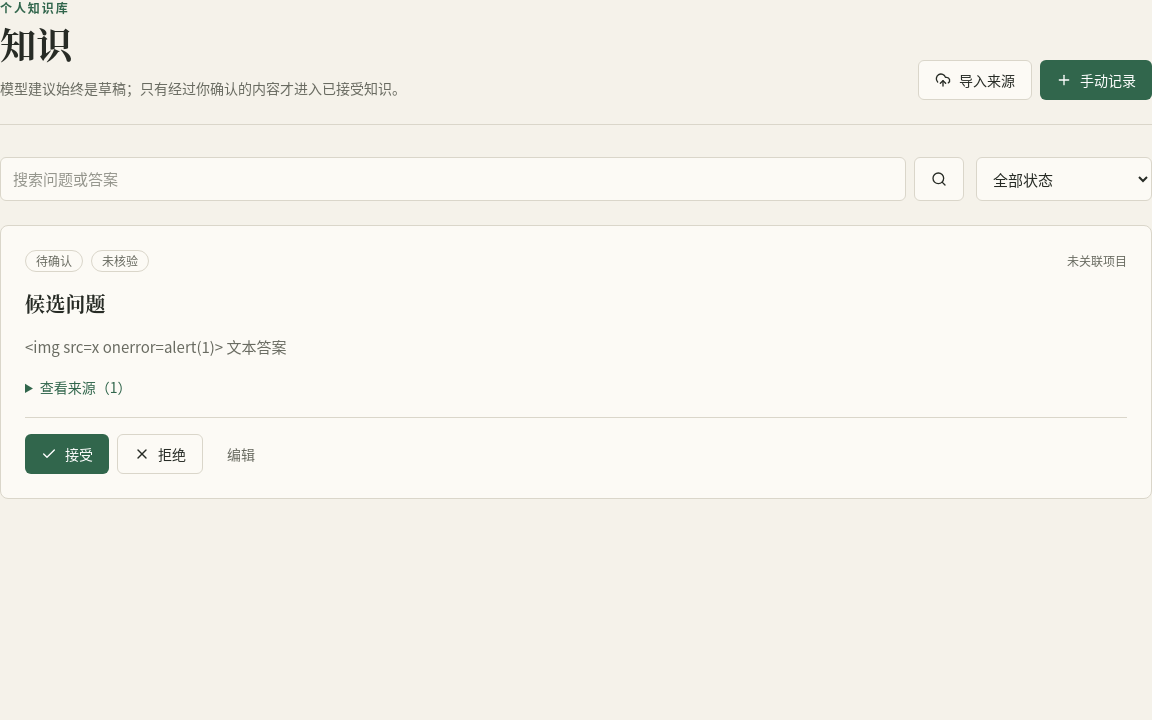
Test: 候选知识与失败保留 › 来源导入失败后保留实际 kind 对应标识和表单
Expected: the heading "候选问题" is shown, [25,289,106,318]
Click the button "导入来源" at [975, 80], box [918,60,1032,100]
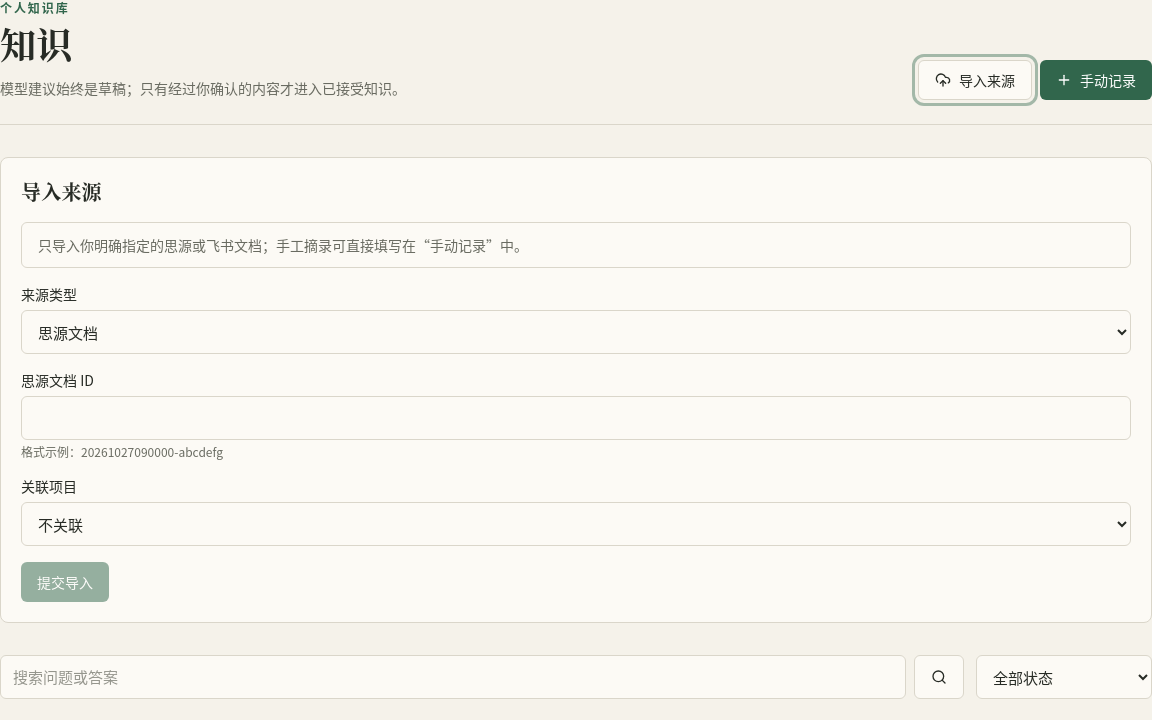
Type "20261027090000-abcdefg" into the field labelled "思源文档 ID" at [576, 418], box [21,396,1131,440]
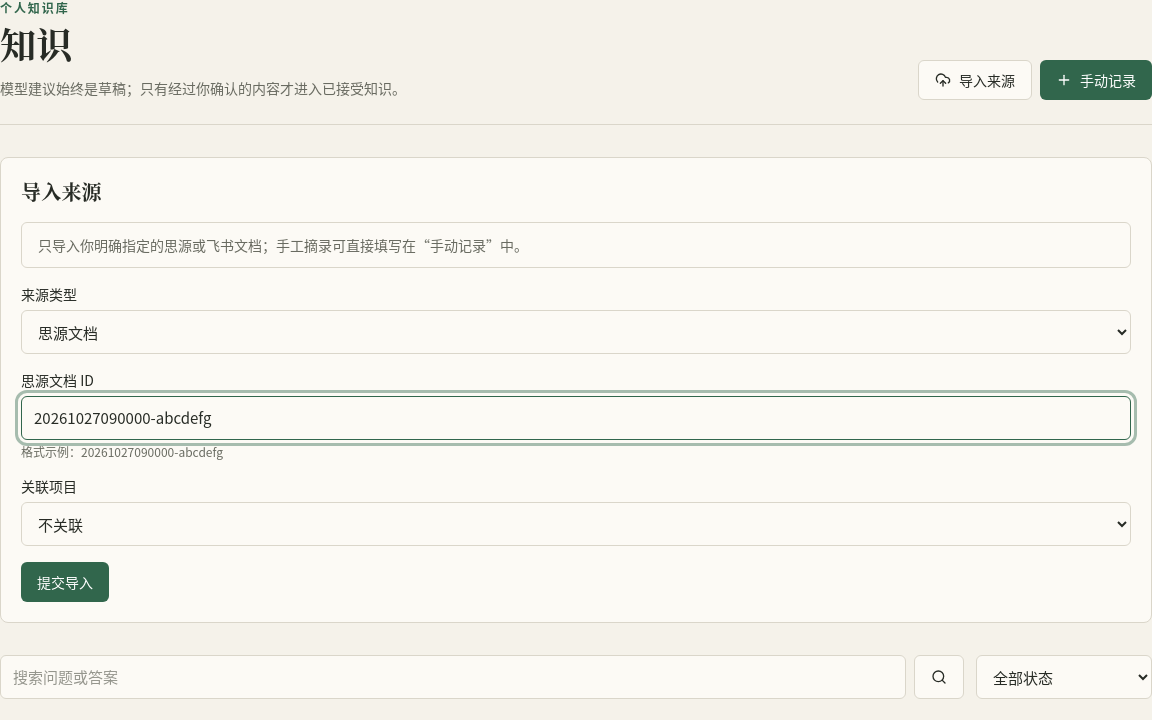
Click the button "提交导入" at [65, 582], box [21,562,109,602]
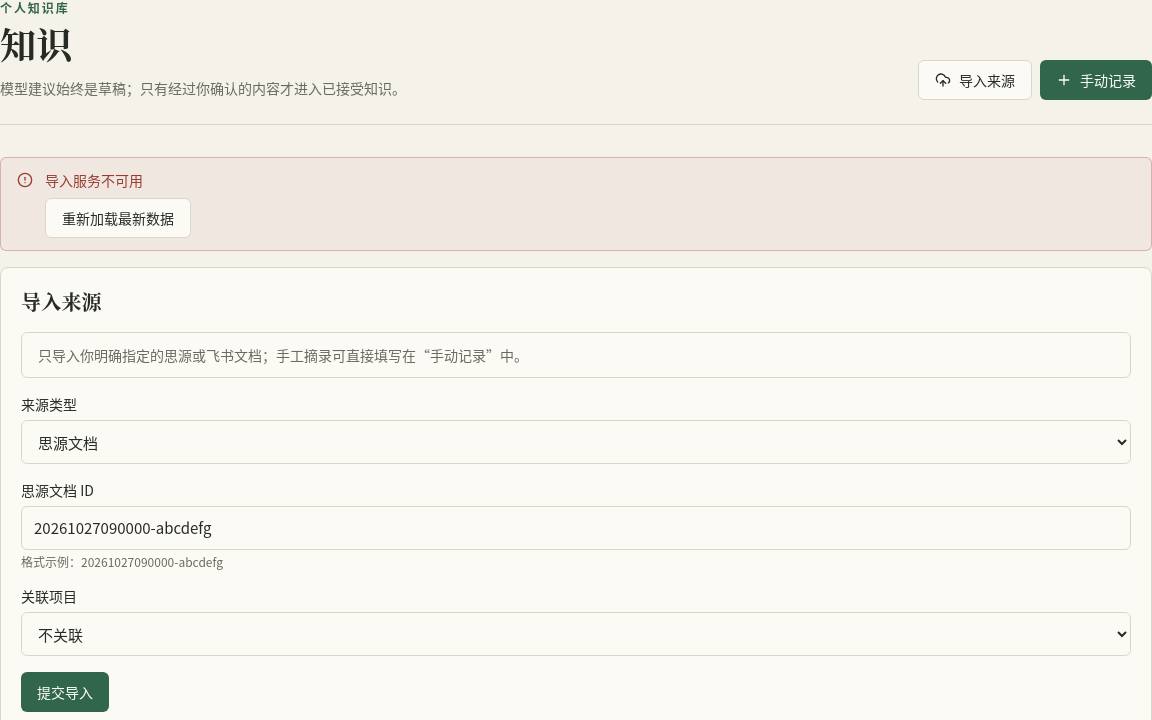
Expected: the button "提交导入" is shown, [21,672,109,712]
Expected: the message "导入服务不可用 重新加载最新数据" is shown, [0,157,1151,251]
